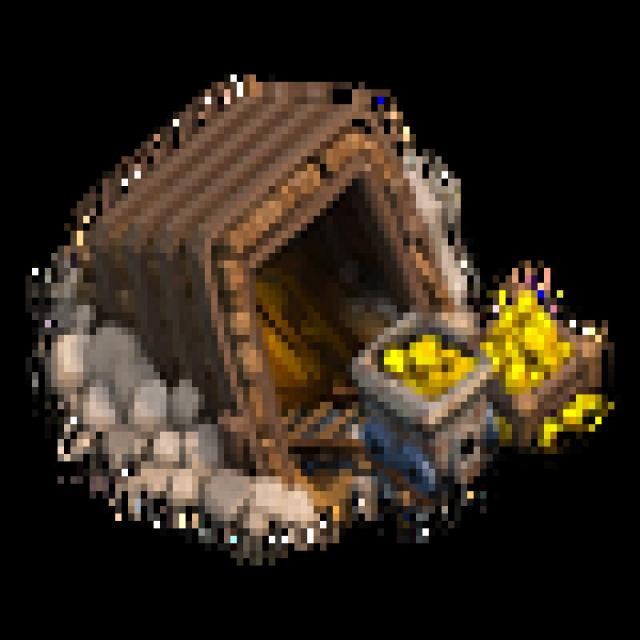gold_mine: (24, 52, 637, 594)
